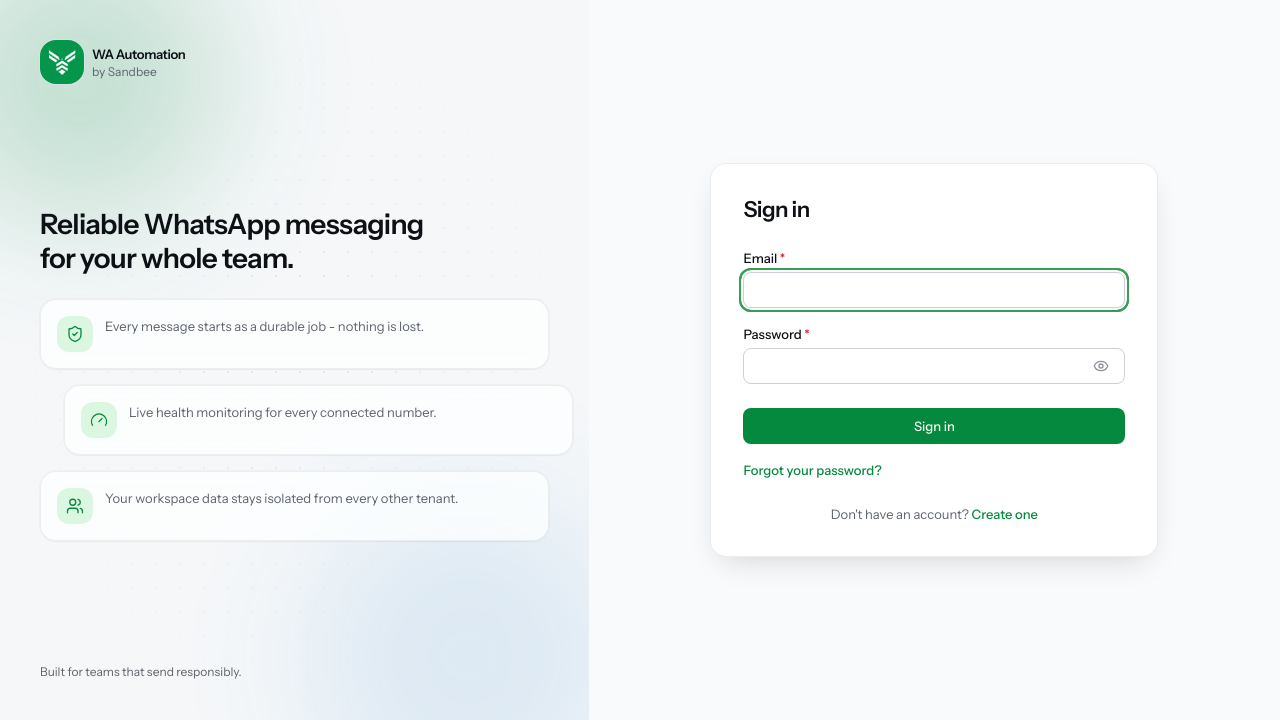
Test: LoginForm › maps_UNAUTHENTICATED_to_its_copy
Type "owner@example.com" into the field with test id "login-email" at (934, 290), box [743, 272, 1125, 308]
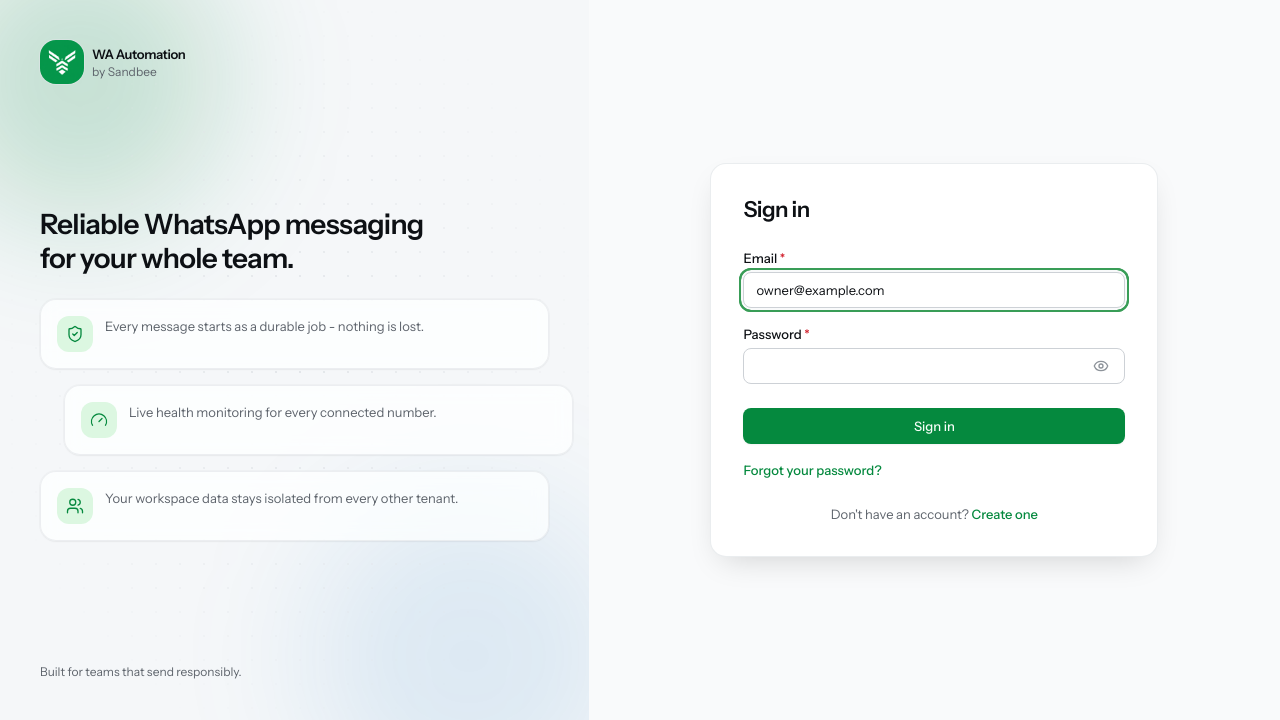
Type "correct horse battery staple" into the password field with test id "login-password" at (934, 366), box [743, 348, 1125, 384]
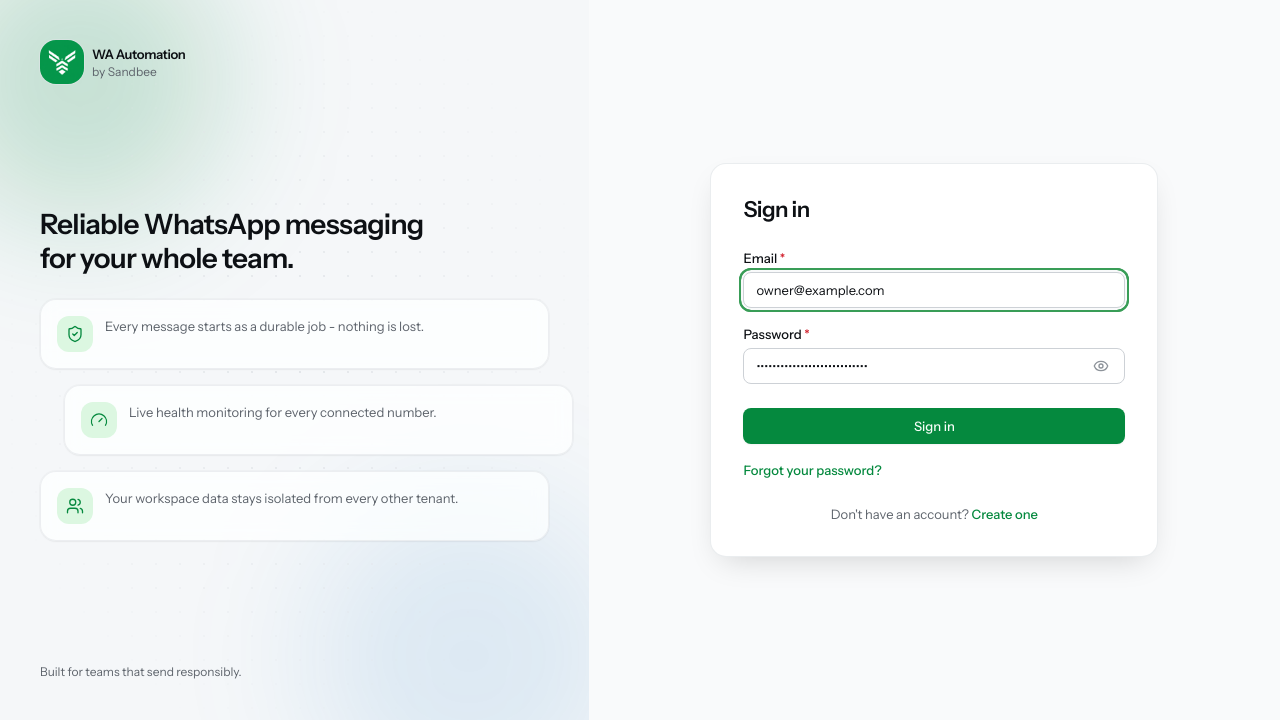
Click the button with test id "login-submit" at (934, 426), box [743, 408, 1125, 444]
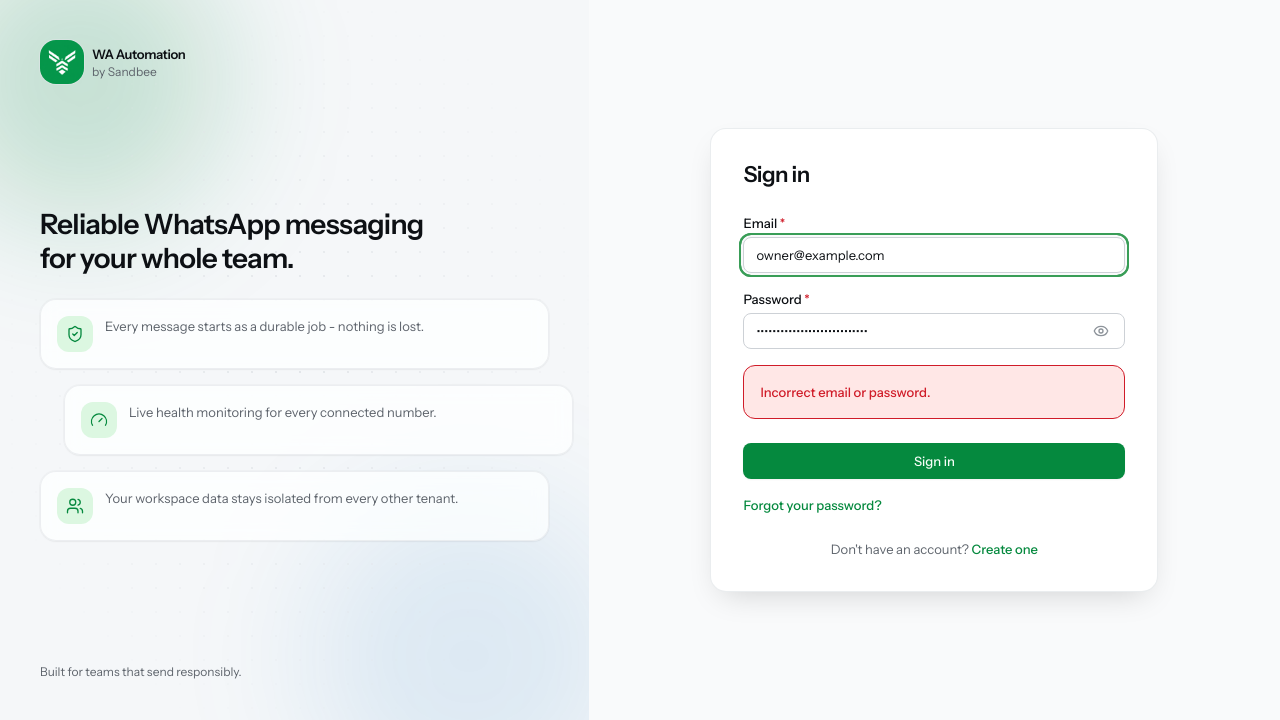
expect the text "Incorrect email or password." is shown: met, box [760, 384, 930, 400]
